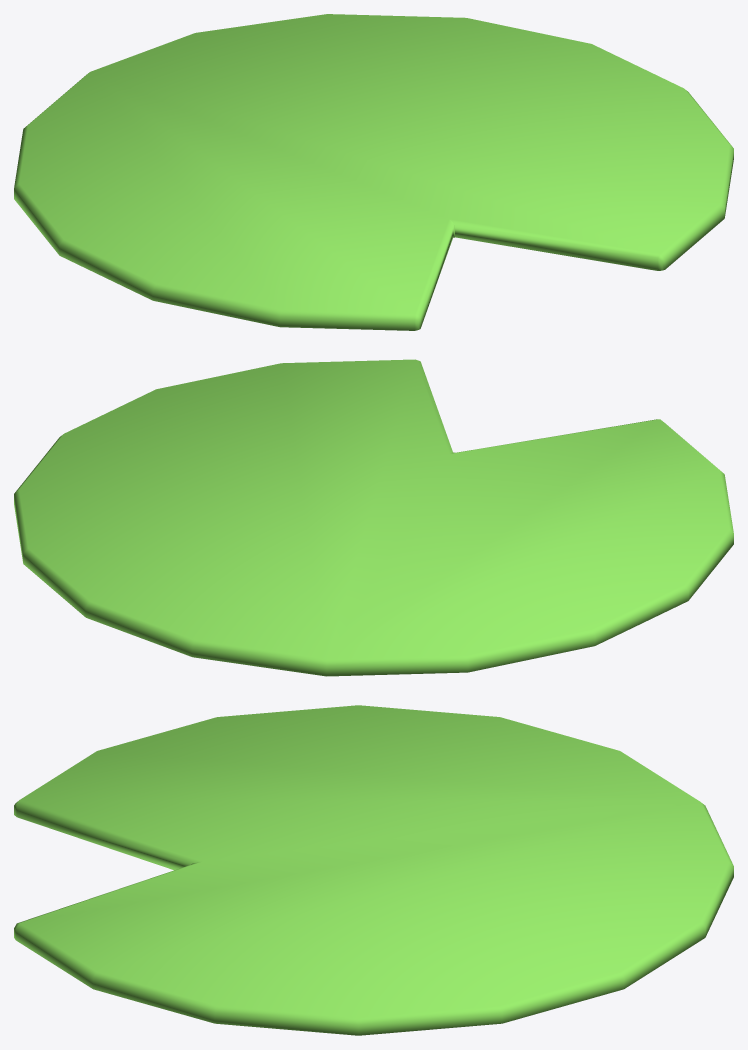
File: VitoriaRegia2.fbx
3 views of the same model, one above another, from view 1: azimuth 30°, elevation 25°; view 2: azimuth 150°, elevation 25°; view 3: azimuth 270°, elevation 25° (orthographic). The views are drawn at different scales.
Parts seen in each view (by area): view 1: Circle; view 2: Circle; view 3: Circle.
Part boxes in pixels (bbox=[...]): Circle: bbox=[14, 14, 733, 330]; Circle: bbox=[14, 359, 733, 676]; Circle: bbox=[14, 705, 733, 1035].
Bounding box in the file's own units: 55.07 × 1.42 × 52.82.
